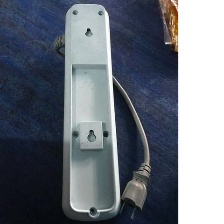three_eye_plug: (57, 1, 122, 223)
